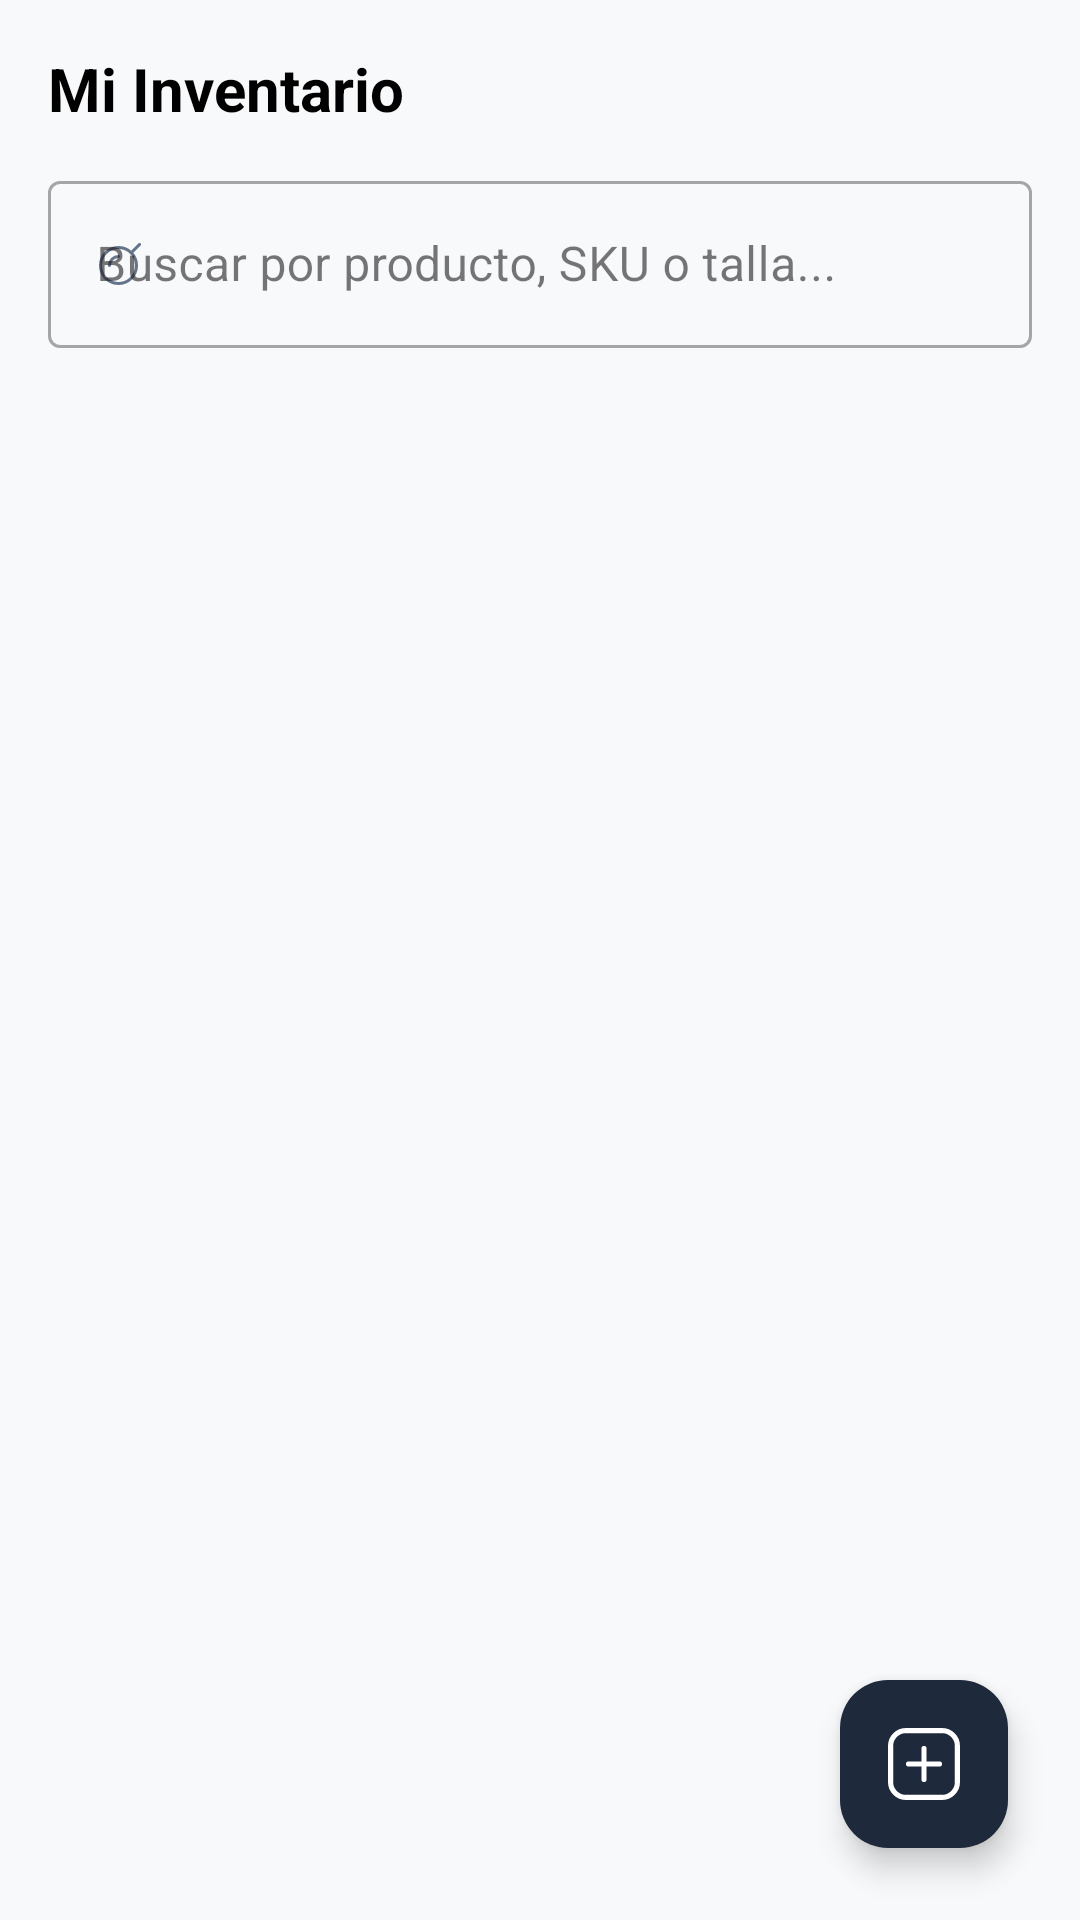

Where to tap for icons on this 1080×1920 app screen, as [x,y]:
Agregar producto: [924,1764]
